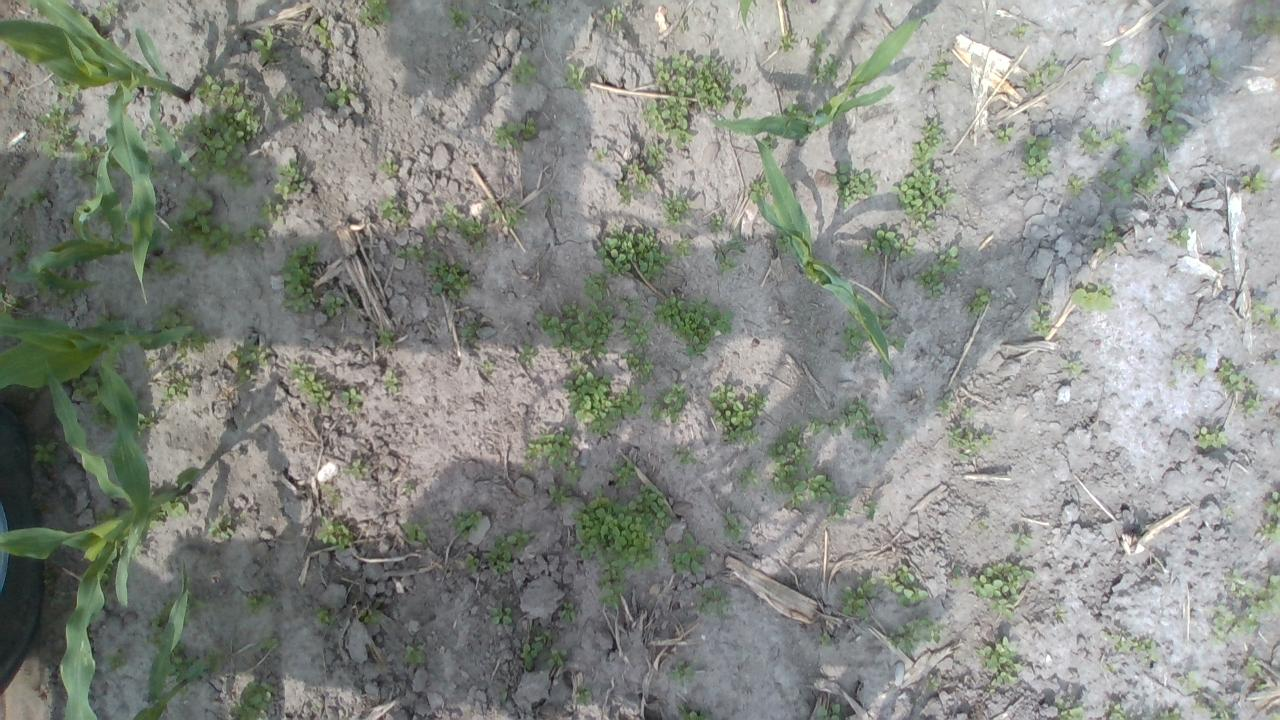Maize: (0, 360, 205, 720), (0, 0, 195, 308), (0, 304, 194, 542), (745, 134, 897, 377), (707, 18, 924, 142), (0, 144, 161, 298), (121, 559, 208, 720), (740, 0, 794, 31)
Weeds: (171, 72, 262, 190), (572, 482, 672, 572), (641, 52, 734, 148), (889, 116, 958, 234), (562, 362, 645, 437), (651, 294, 734, 358), (1132, 59, 1190, 148), (164, 193, 242, 257), (537, 301, 615, 358), (596, 224, 671, 283), (764, 424, 814, 509), (968, 560, 1036, 620), (153, 300, 214, 362), (68, 359, 118, 433), (708, 383, 766, 446), (1172, 667, 1238, 720), (1225, 567, 1280, 622), (840, 396, 890, 456), (280, 240, 321, 313), (975, 634, 1023, 694), (1098, 624, 1160, 670), (886, 613, 949, 655), (912, 246, 962, 298), (69, 138, 119, 188), (522, 426, 574, 473), (140, 227, 184, 282), (441, 201, 489, 251), (830, 161, 880, 209), (424, 250, 471, 300), (484, 527, 536, 572), (1206, 602, 1262, 642), (806, 474, 852, 522), (122, 373, 156, 437), (286, 362, 332, 408), (859, 226, 918, 261), (880, 564, 928, 607), (1094, 42, 1140, 86), (225, 339, 268, 383), (946, 424, 994, 462), (669, 532, 710, 574), (165, 642, 198, 694), (231, 681, 275, 720), (146, 595, 178, 647), (516, 626, 552, 672), (37, 102, 75, 145), (840, 575, 877, 619), (713, 229, 749, 273), (650, 383, 688, 423), (1024, 54, 1064, 92), (1019, 134, 1052, 180), (493, 116, 537, 150), (1253, 490, 1280, 544), (1069, 282, 1116, 313), (272, 157, 304, 199), (32, 436, 74, 468), (316, 516, 352, 552), (1098, 166, 1132, 204), (102, 543, 122, 607), (252, 23, 283, 64), (840, 320, 870, 362), (694, 584, 731, 618), (1214, 356, 1246, 395), (33, 282, 81, 308), (620, 349, 654, 385), (449, 508, 484, 542), (489, 198, 528, 228), (1170, 344, 1206, 376), (160, 364, 188, 404), (598, 572, 628, 609), (719, 504, 748, 542), (620, 160, 652, 194), (1078, 126, 1110, 158), (1090, 221, 1123, 252), (619, 316, 653, 346), (88, 0, 124, 28), (1242, 654, 1270, 690), (660, 195, 691, 227), (1026, 300, 1052, 338), (509, 54, 538, 88), (923, 50, 954, 81), (272, 92, 302, 124), (358, 0, 392, 28), (1134, 158, 1160, 194), (208, 506, 234, 542), (1251, 298, 1280, 330), (810, 56, 840, 86), (561, 62, 589, 94), (324, 81, 358, 107), (379, 196, 409, 225), (580, 273, 610, 302), (310, 16, 334, 52), (1247, 12, 1280, 38), (15, 185, 49, 210), (256, 196, 286, 224), (666, 659, 698, 685), (1195, 426, 1229, 450), (54, 74, 81, 104), (962, 288, 992, 315), (612, 460, 640, 488), (1054, 698, 1088, 720), (204, 646, 232, 672), (1238, 170, 1268, 194), (516, 336, 540, 366), (734, 465, 761, 491), (10, 384, 50, 401), (447, 5, 472, 32), (242, 592, 272, 614), (1062, 172, 1088, 197), (1162, 12, 1188, 36), (402, 520, 429, 543), (669, 445, 698, 466), (342, 459, 369, 481), (731, 86, 748, 120), (340, 388, 364, 412), (1101, 704, 1137, 720), (460, 321, 484, 345), (322, 293, 344, 319), (242, 224, 268, 246), (1238, 394, 1262, 417), (871, 304, 894, 328), (858, 497, 882, 520), (160, 500, 189, 519), (616, 292, 641, 314), (488, 606, 514, 627), (676, 703, 708, 720), (394, 243, 424, 261), (1009, 530, 1032, 553), (1166, 226, 1190, 248), (564, 460, 586, 484), (547, 483, 571, 505), (646, 141, 666, 167), (0, 334, 26, 354), (314, 604, 337, 626), (746, 180, 768, 203), (0, 290, 21, 314), (810, 31, 830, 56), (1142, 707, 1180, 720), (884, 332, 906, 354), (142, 125, 162, 149), (106, 646, 126, 670), (546, 646, 570, 666), (381, 369, 400, 394), (94, 507, 130, 520), (90, 312, 126, 325), (574, 683, 594, 706), (1114, 151, 1141, 168), (1151, 153, 1170, 177), (815, 703, 841, 720), (1060, 358, 1082, 378), (378, 156, 400, 176), (402, 644, 425, 663), (375, 328, 396, 348), (39, 138, 58, 160), (806, 417, 828, 436), (616, 180, 632, 206), (937, 392, 955, 415), (526, 0, 551, 16), (672, 238, 692, 258), (759, 132, 778, 153), (1111, 128, 1129, 150), (258, 632, 281, 649), (360, 607, 383, 624), (1204, 57, 1222, 78), (51, 589, 73, 606), (560, 601, 576, 624), (995, 127, 1014, 146), (604, 4, 622, 24), (322, 485, 342, 503), (949, 565, 966, 586), (779, 34, 797, 53), (188, 596, 208, 612), (1052, 603, 1068, 622), (707, 214, 723, 232), (1206, 257, 1226, 271), (464, 552, 478, 572), (960, 404, 976, 419), (1221, 505, 1236, 520), (1014, 24, 1028, 40), (1266, 704, 1280, 720), (816, 632, 830, 647), (142, 356, 156, 371), (427, 219, 438, 236), (926, 677, 939, 691), (594, 147, 606, 162), (483, 360, 498, 372), (1269, 143, 1280, 159), (402, 485, 416, 497), (1250, 0, 1272, 7), (446, 71, 465, 79), (1247, 382, 1259, 394), (149, 518, 165, 527), (545, 196, 558, 207), (1266, 358, 1280, 368), (978, 520, 990, 530)
